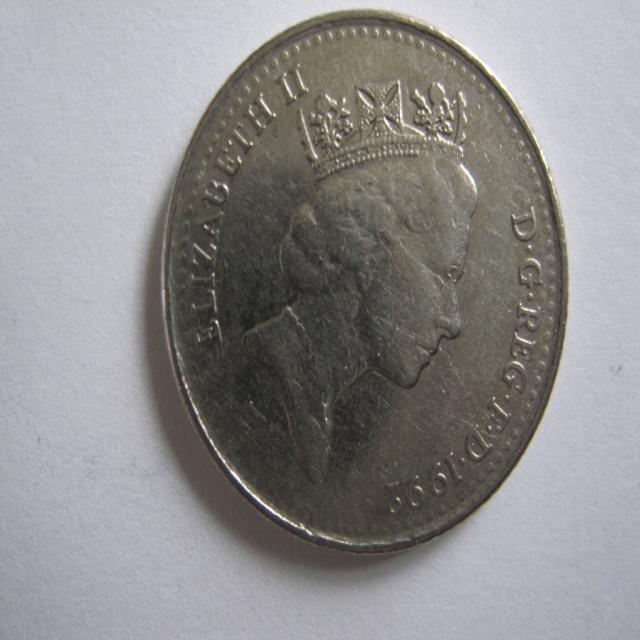Coin: (154, 2, 575, 559)
